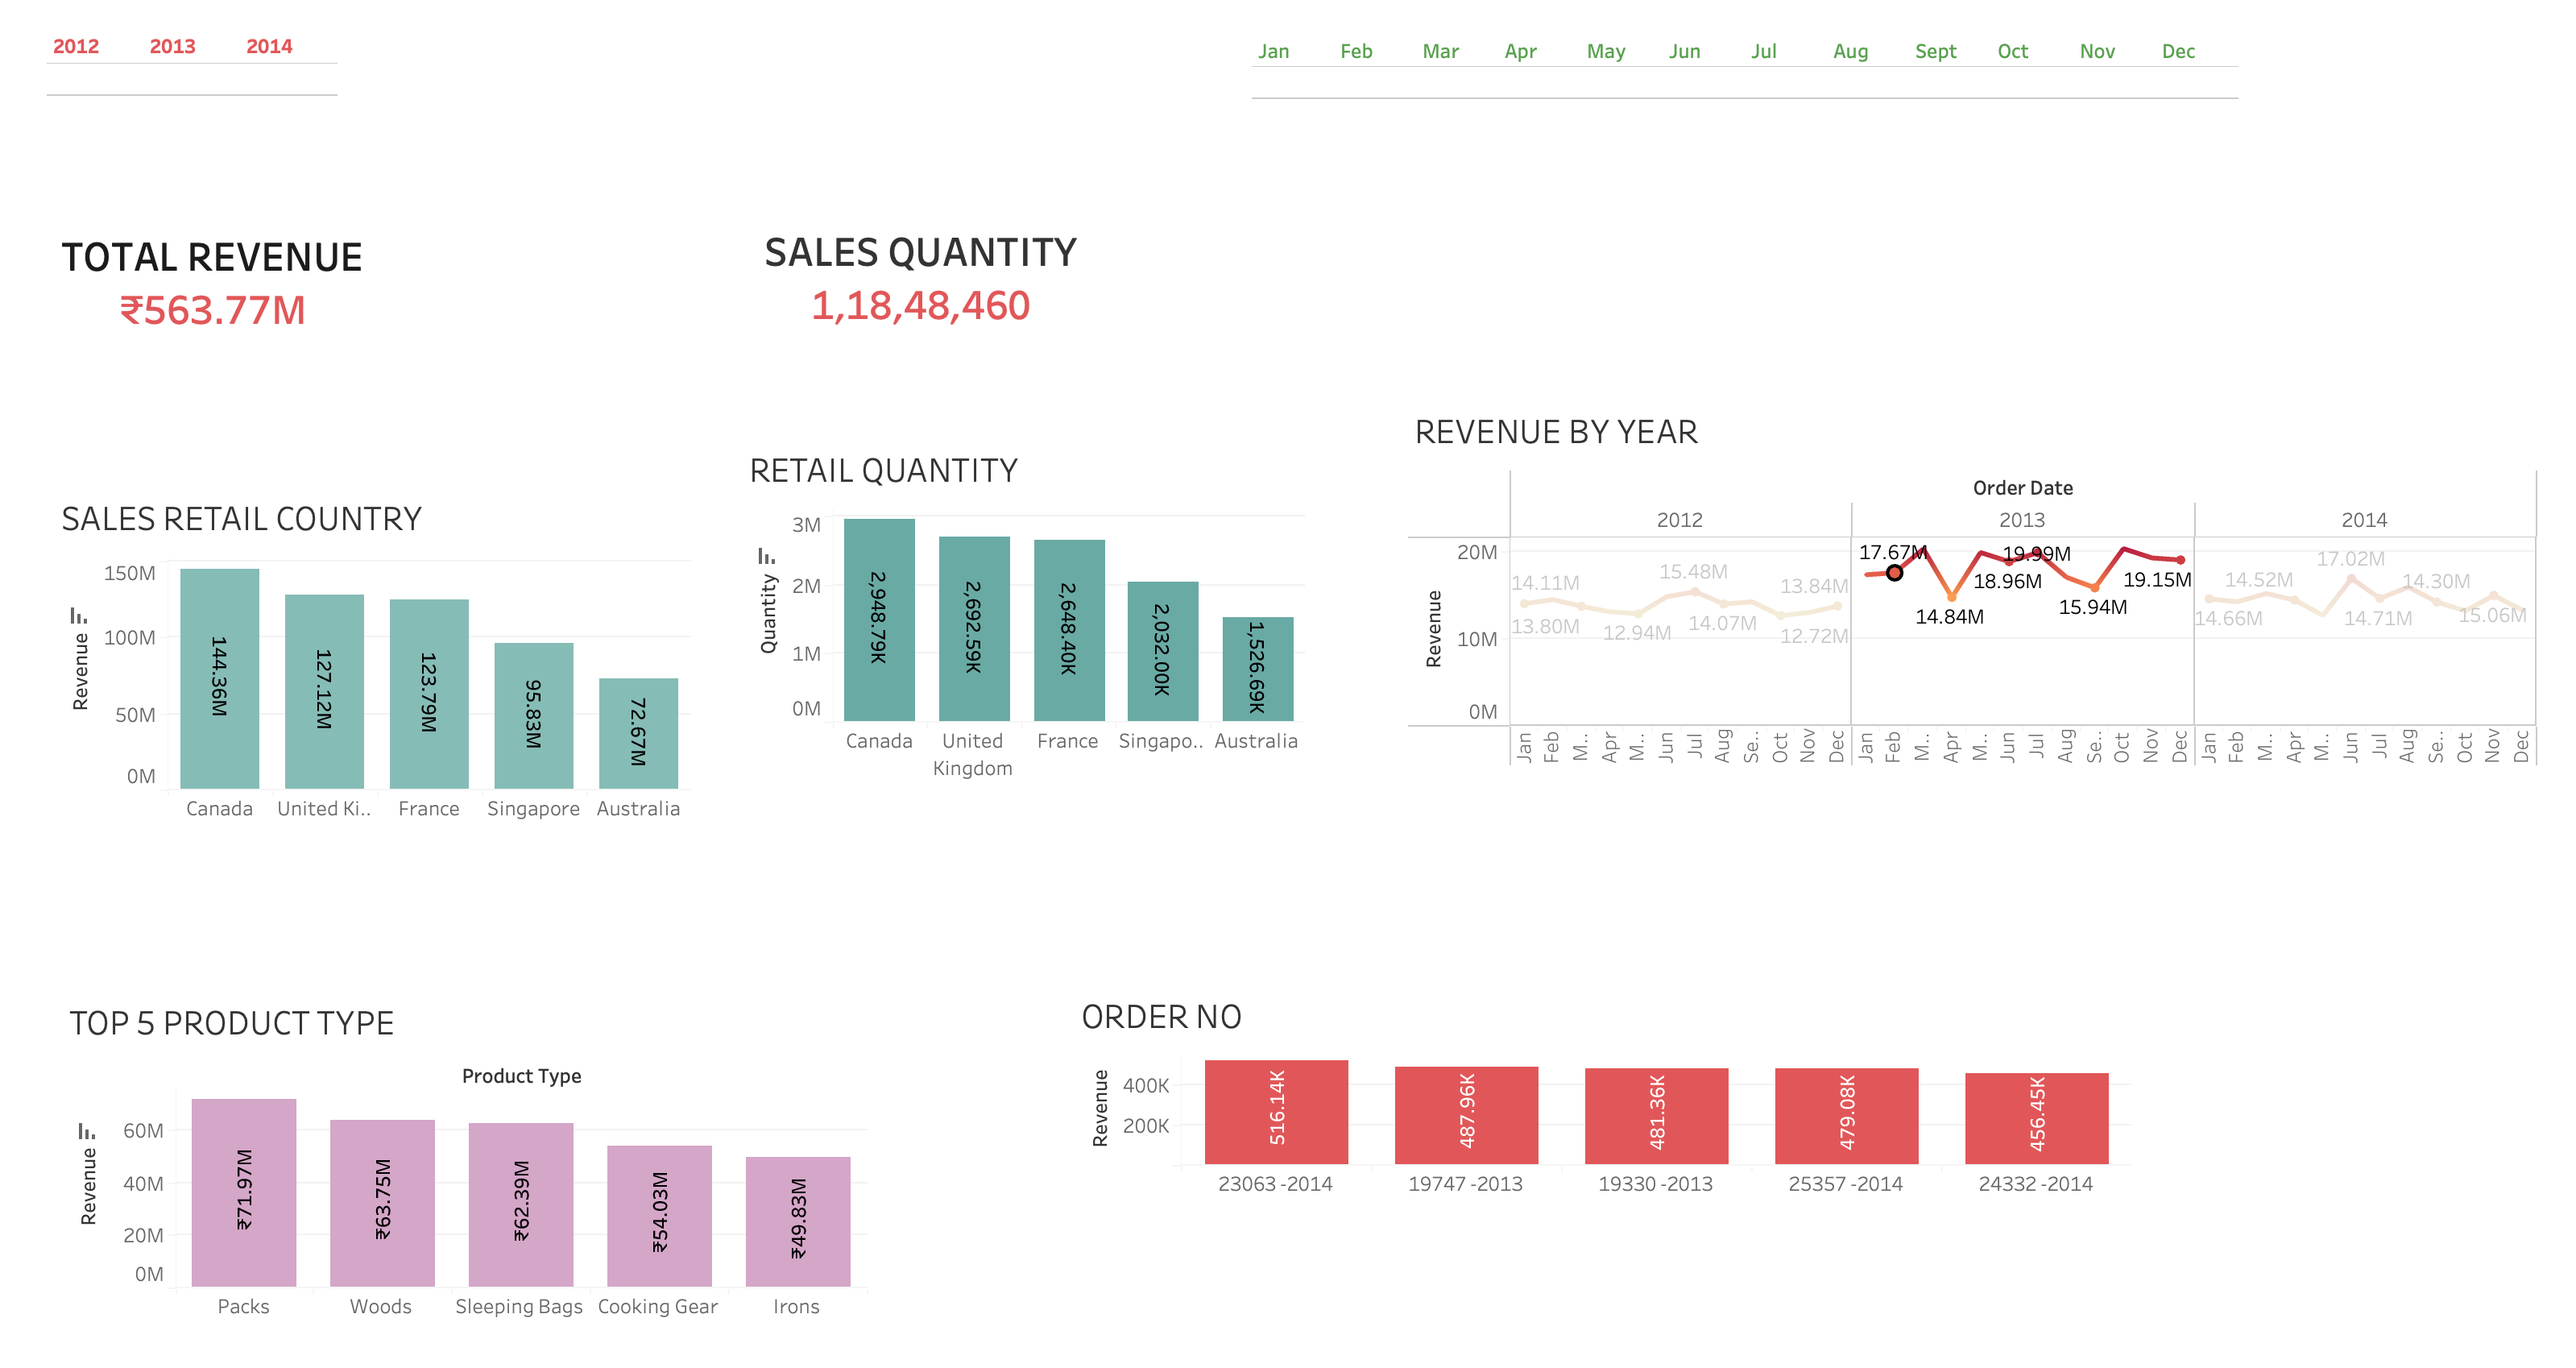

The page's visual inventory and layout, read from the dashboard file:
{"tool":"tableau","page":{"name":"Dashboard 1","canvas":[1600,900],"ordinal":0},"visuals":[{"type":"worksheet","title":"YEAR","mark":"Automatic","cols":["Order_Date"],"box":[35,11,209,80]},{"type":"worksheet","title":"MONTH","mark":"Automatic","cols":["Order_Date"],"box":[783,29,765,58]},{"type":"worksheet","title":"QUANTITY","mark":"Automatic","box":[468,147,259,84]},{"type":"worksheet","title":"REVENUE","mark":"Automatic","box":[38,150,234,104]},{"type":"worksheet","title":"REVENUE BY YEAR","mark":"Automatic","rows":["Revenue"],"cols":["Order_Date","Order_Date"],"box":[880,257,701,227]},{"type":"worksheet","title":"RETAIL QUANTITY","mark":"Automatic","rows":["Quantity"],"cols":["Retailer_Country"],"box":[467,281,349,227]},{"type":"worksheet","title":"SALES RETAIL COUNTRY","mark":"Automatic","rows":["Revenue"],"cols":["Retailer_Country"],"box":[40,311,395,213]},{"type":"worksheet","title":"ORDER NO","mark":"Automatic","rows":["Revenue"],"cols":["Order_No"],"box":[673,620,656,204]},{"type":"worksheet","title":"TOP 5 PRODUCT TYPE","mark":"Automatic","rows":["Revenue"],"cols":["Product_Type"],"box":[45,624,500,227]}]}

Visuals, with their boxes on the page's 1600x900 design canvas (x1, y1, x2, y2). These are canvas units, not pixel positions in the 2576x1368 screenshot, which may show the page scaled, cropped or inside an application window:
"YEAR" worksheet: 35:11:244:91
"MONTH" worksheet: 783:29:1548:87
"QUANTITY" worksheet: 468:147:727:231
"REVENUE" worksheet: 38:150:272:254
"REVENUE BY YEAR" worksheet: 880:257:1581:484
"RETAIL QUANTITY" worksheet: 467:281:816:508
"SALES RETAIL COUNTRY" worksheet: 40:311:435:524
"ORDER NO" worksheet: 673:620:1329:824
"TOP 5 PRODUCT TYPE" worksheet: 45:624:545:851
